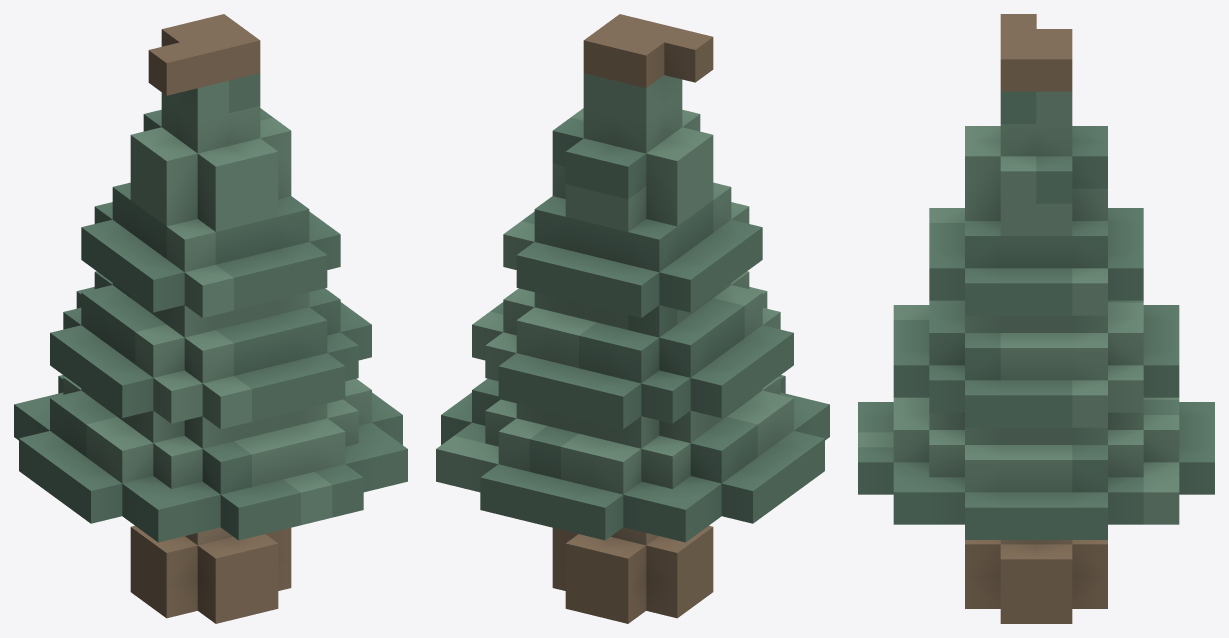
The model's file is pin_2.glb.
The picture shows the model from 3 angles, left to right: view 1: azimuth 30°, elevation 25°; view 2: azimuth 150°, elevation 25°; view 3: azimuth 270°, elevation 25°; orthographic projection.
Parts seen in each view (by area): view 1: geometry_0; view 2: geometry_0; view 3: geometry_0.
Boxes of the visible parts, x1=… form: geometry_0: x1=14, y1=14, x2=407, y2=623; geometry_0: x1=436, y1=14, x2=829, y2=623; geometry_0: x1=858, y1=14, x2=1214, y2=623.
Size of the model in its own units: 2.5 by 4.25 by 2.5.
